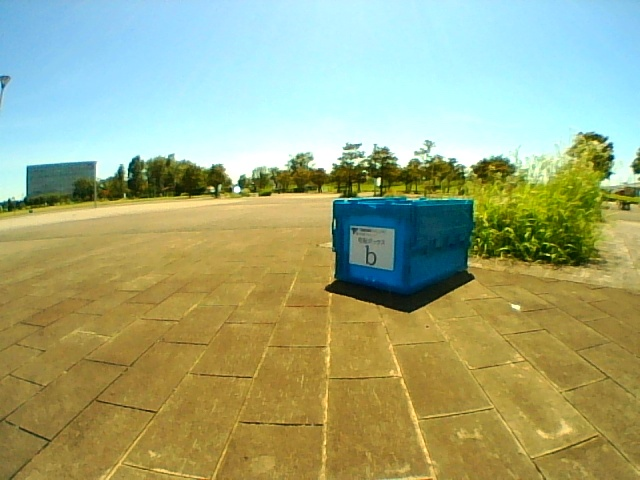blue_box: (334, 200, 466, 275)
tag_b: (351, 230, 390, 265)
